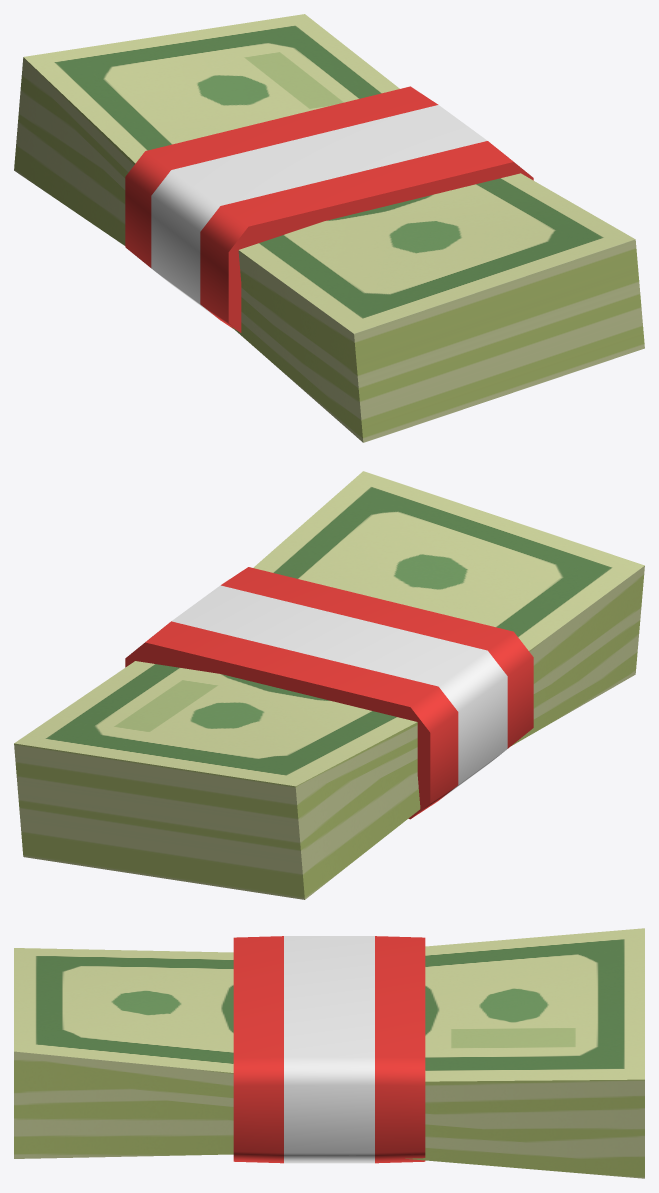
The model's file is Cash_07.obj.
The picture shows the model from 3 angles, top to bottom: view 1: azimuth 30°, elevation 25°; view 2: azimuth 150°, elevation 25°; view 3: azimuth 270°, elevation 25°; orthographic projection. The views are drawn at different scales.
Parts seen in each view (by area): view 1: Cash_07; view 2: Cash_07; view 3: Cash_07.
Part boxes in pixels (left/top/right/bottom): Cash_07: left=14, top=14, right=644, bottom=442; Cash_07: left=14, top=471, right=644, bottom=899; Cash_07: left=14, top=928, right=644, bottom=1178.
Size of the model in its own units: 0.1304 by 0.0556 by 0.25.
2 materials, 2 textured.
